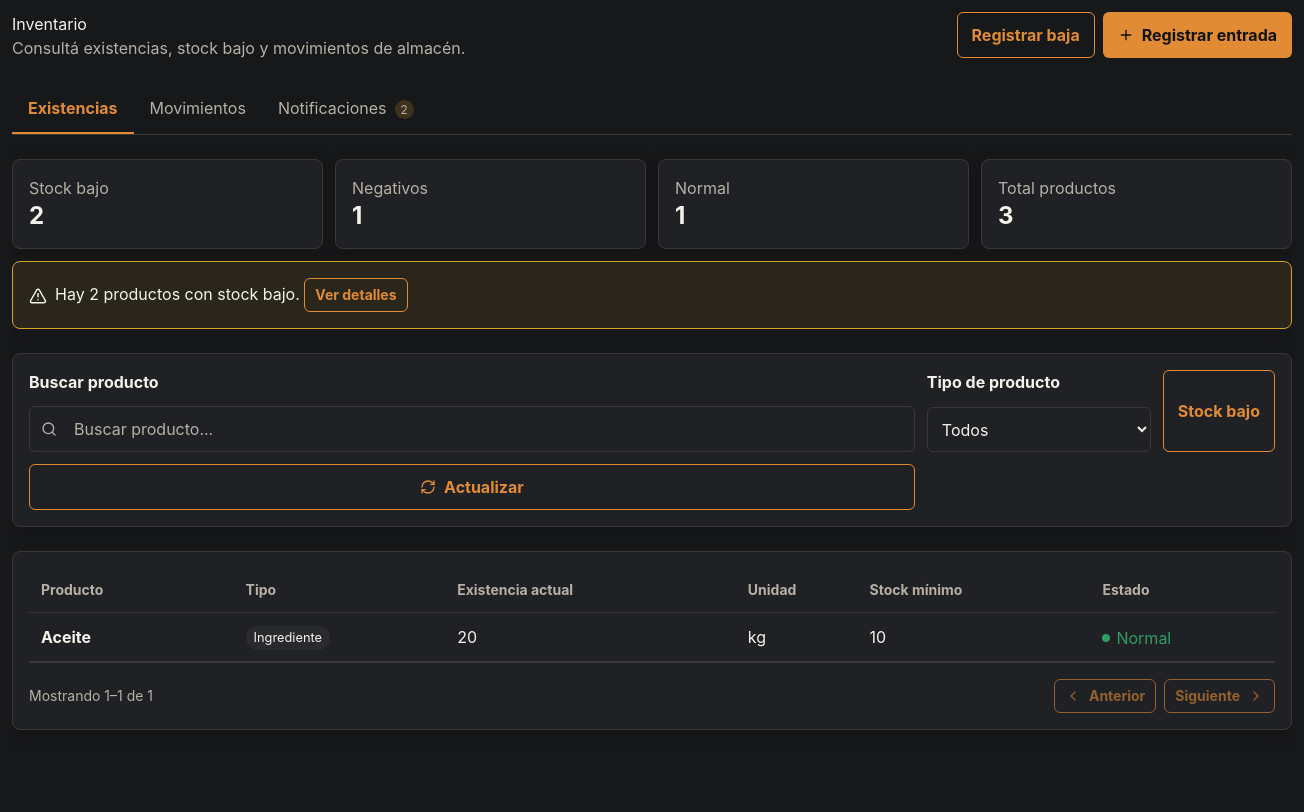
Test: InventoryBalancesPage HU-006 › uses the complete summary low-stock source, including negative items, when filtering
Click the button "Stock bajo": (1219, 411) [1163, 370, 1275, 452]
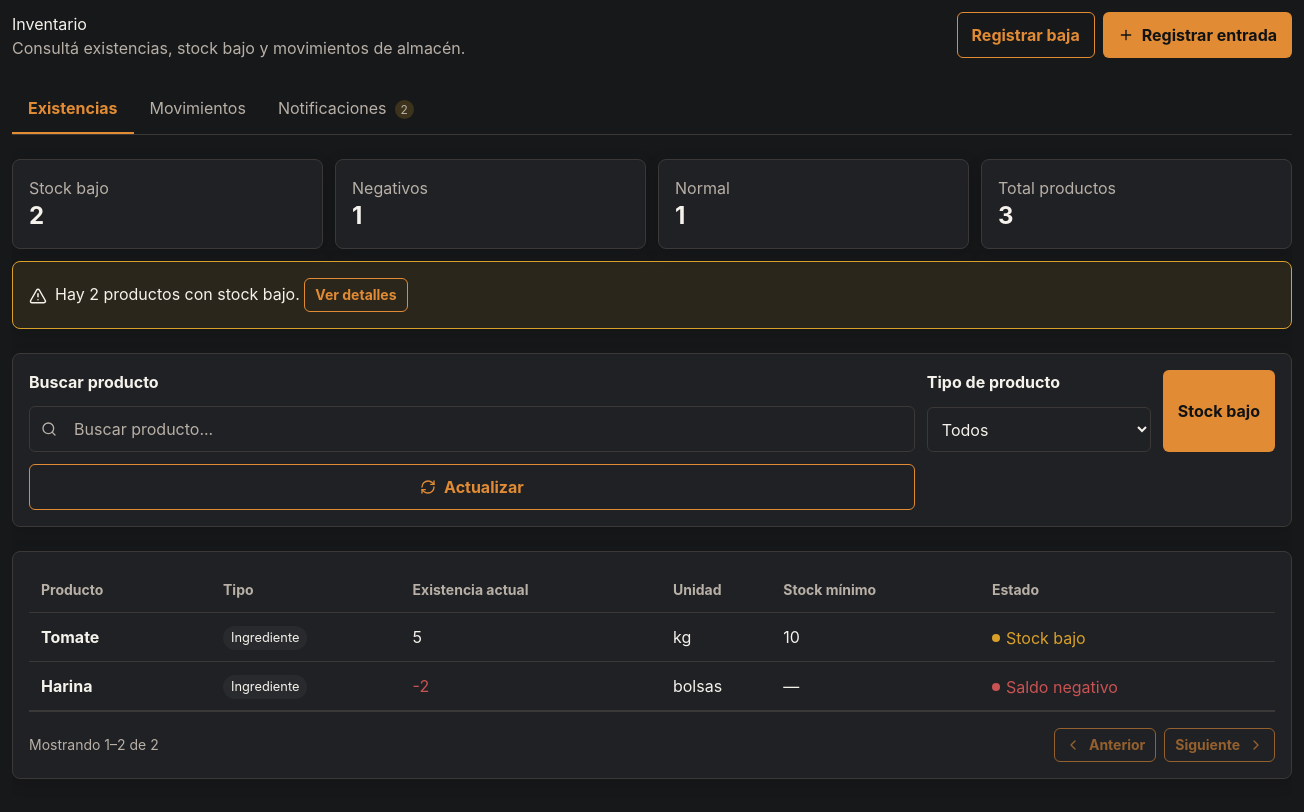
Check: the text "Aceite" is not shown
